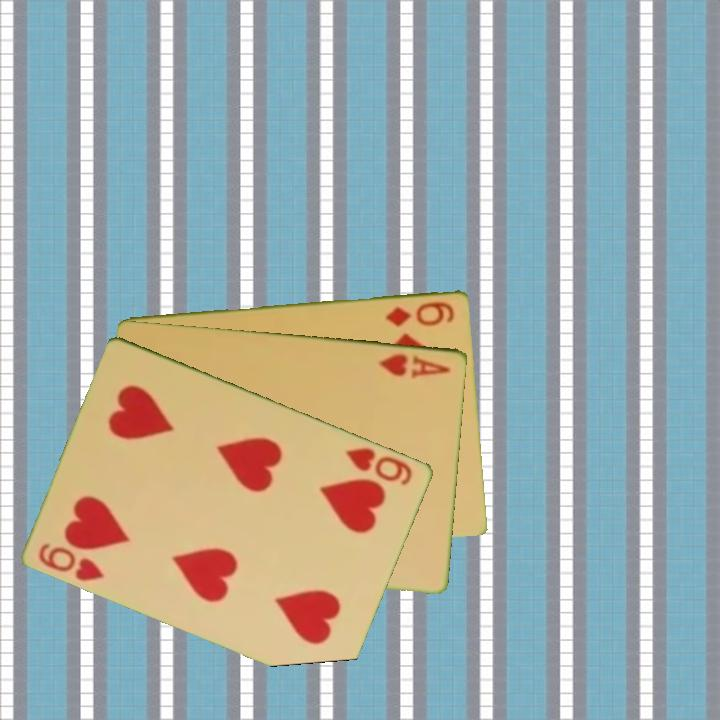6d: (383, 297, 458, 329)
6h: (342, 443, 416, 488), (35, 539, 108, 584)
Ah: (376, 349, 454, 381)
